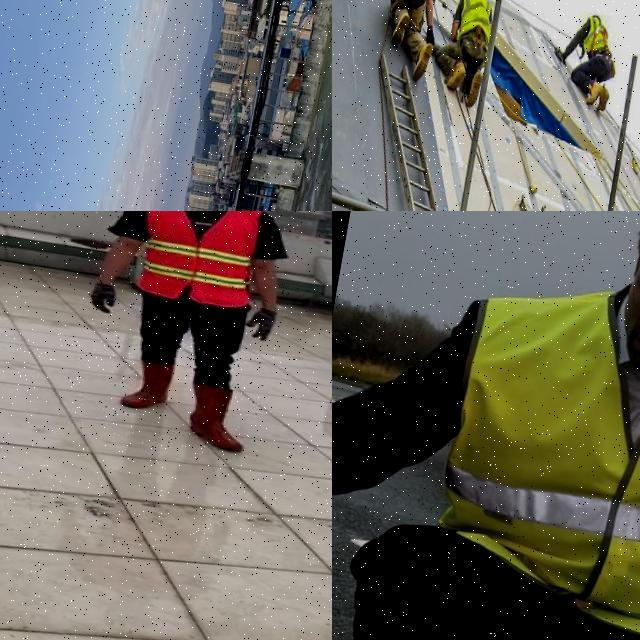boots: (187, 380, 267, 454), (116, 356, 180, 416), (409, 41, 434, 84), (442, 58, 468, 94), (390, 10, 411, 46), (466, 72, 486, 108), (595, 87, 614, 113), (584, 83, 602, 107)
vest: (405, 271, 640, 640), (130, 211, 270, 312), (450, 0, 500, 47), (574, 18, 616, 56)
